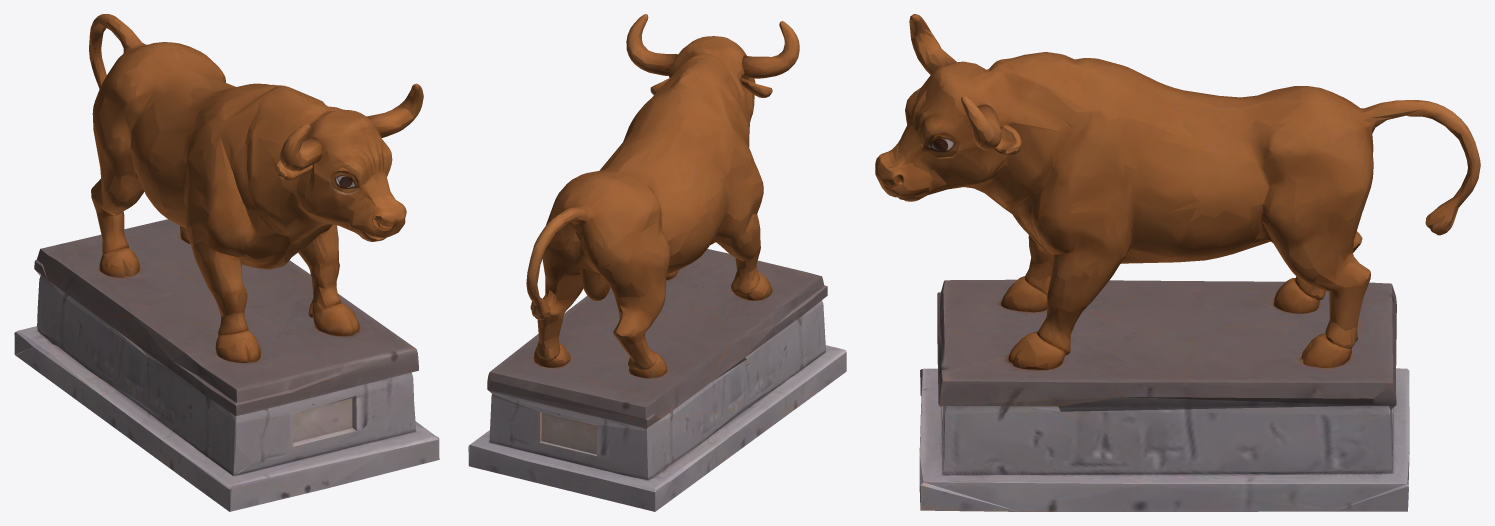
Rendered from bull.glb.
3 renders of one model, left to right at view 1: azimuth 30°, elevation 25°; view 2: azimuth 150°, elevation 25°; view 3: azimuth 270°, elevation 25°, orthographic. The views are drawn at different scales.
Bounding box in the file's own units: 1.61 × 2.6 × 3.37.
Materials: 1 (1 with a texture image).
